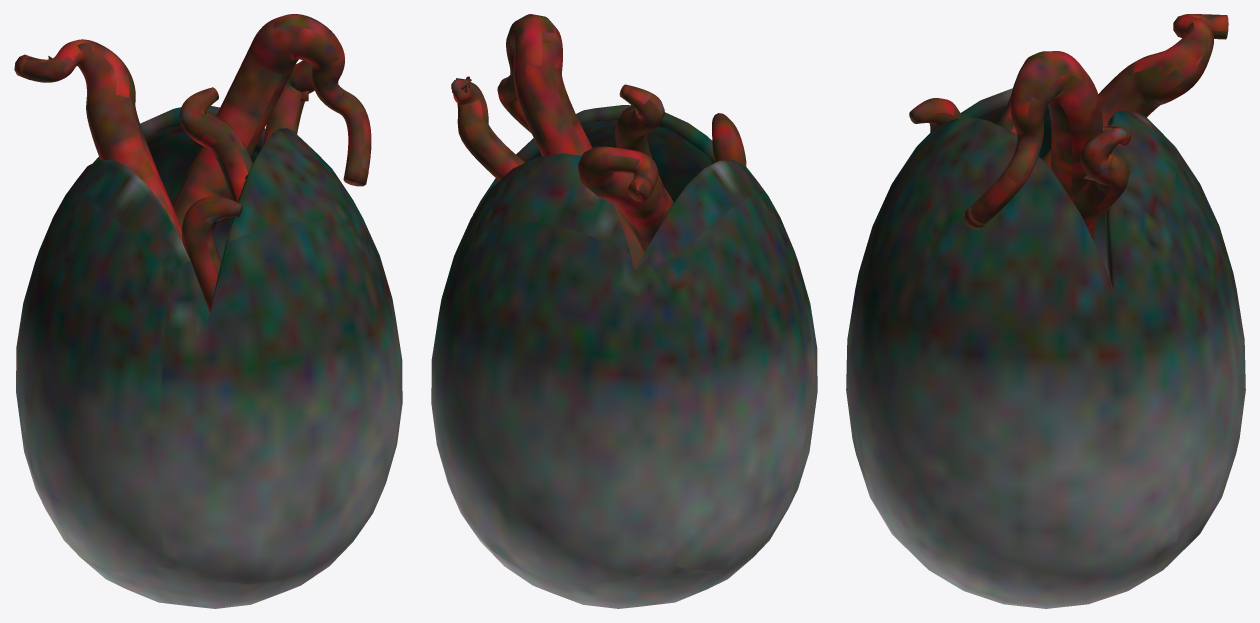
Rendered from egg2.fbx.
3 views of the same model, side by side, from view 1: azimuth 30°, elevation 25°; view 2: azimuth 150°, elevation 25°; view 3: azimuth 270°, elevation 25° (orthographic). The views are drawn at different scales.
Visible parts, largest first — view 1: Cube; view 2: Cube; view 3: Cube.
Part boxes in pixels (bbox=[...]): Cube: bbox=[14, 14, 402, 608]; Cube: bbox=[431, 14, 817, 608]; Cube: bbox=[846, 14, 1245, 608].
Size of the model in its own units: 141 by 227 by 141.
1 material, 1 textured.
